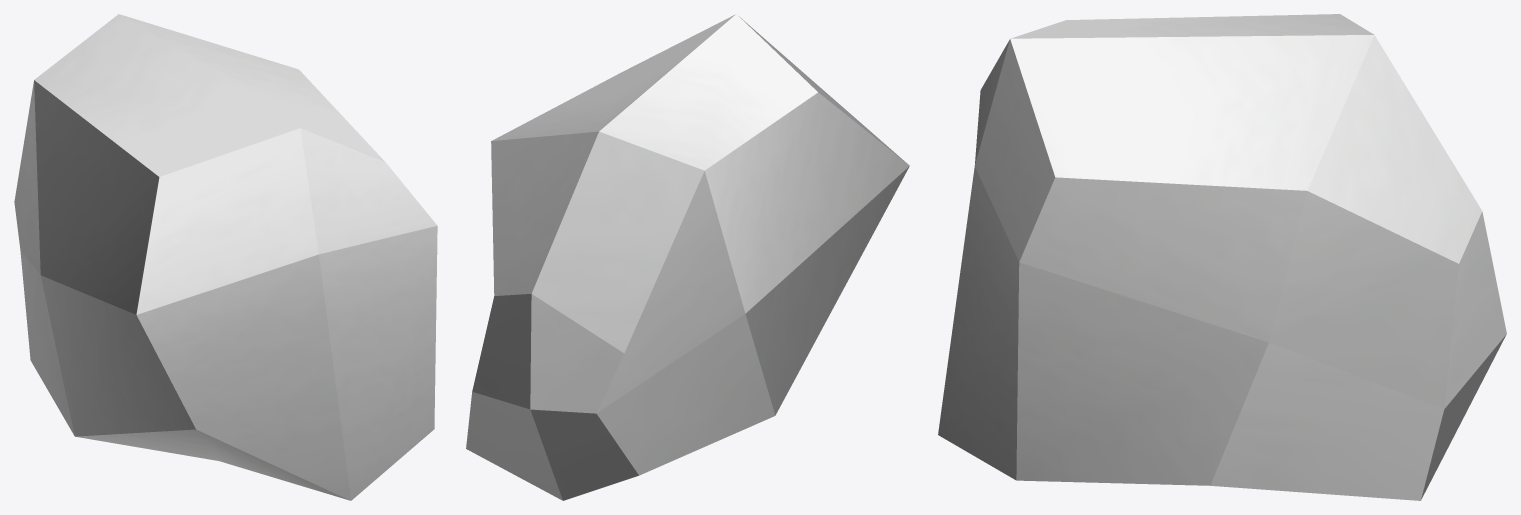
Rendered from Env_Rock_2_model.fbx.
3 renders of one model, left to right at view 1: azimuth 30°, elevation 25°; view 2: azimuth 150°, elevation 25°; view 3: azimuth 270°, elevation 25°, orthographic. The views are drawn at different scales.
Visible parts, largest first — view 1: Env_Rock_02; view 2: Env_Rock_02; view 3: Env_Rock_02.
Part boxes in pixels (box(x1,y1,x2,y2)): Env_Rock_02: box(14, 14, 437, 500); Env_Rock_02: box(466, 14, 909, 500); Env_Rock_02: box(938, 14, 1506, 500).
Bounding box in the file's own units: 4.03 × 4.79 × 5.69.
